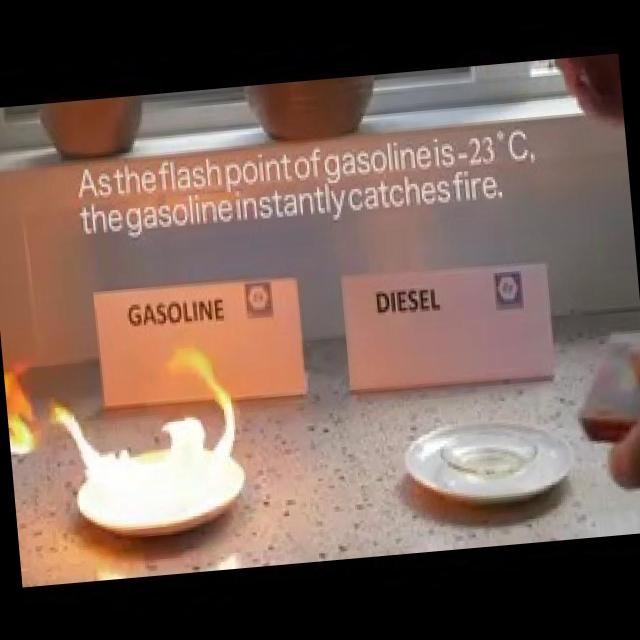Fire: (42, 336, 248, 532), (2, 351, 42, 463)
